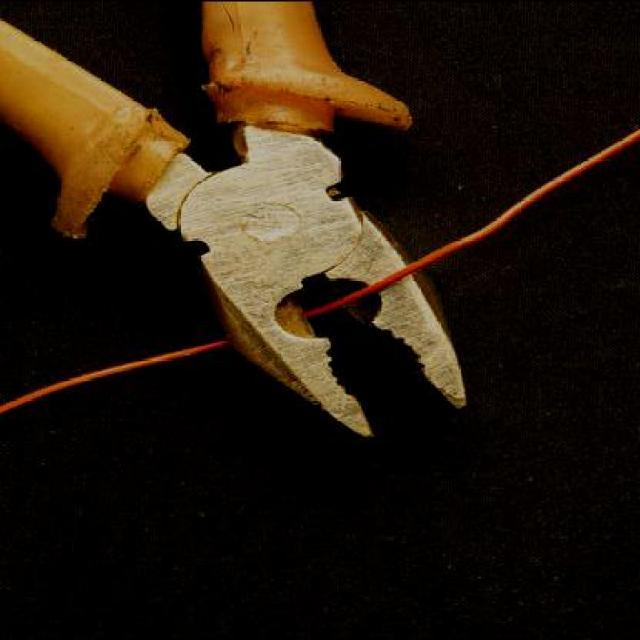pliers: (0, 1, 478, 440)
